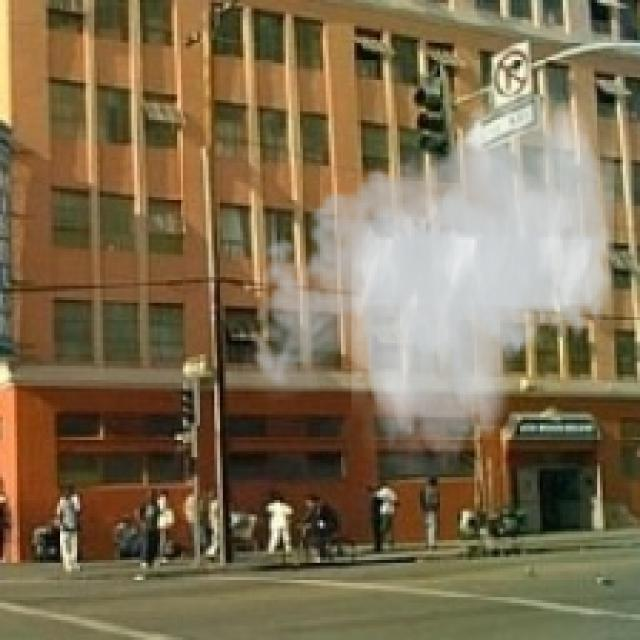Smoke: (240, 68, 614, 474)
